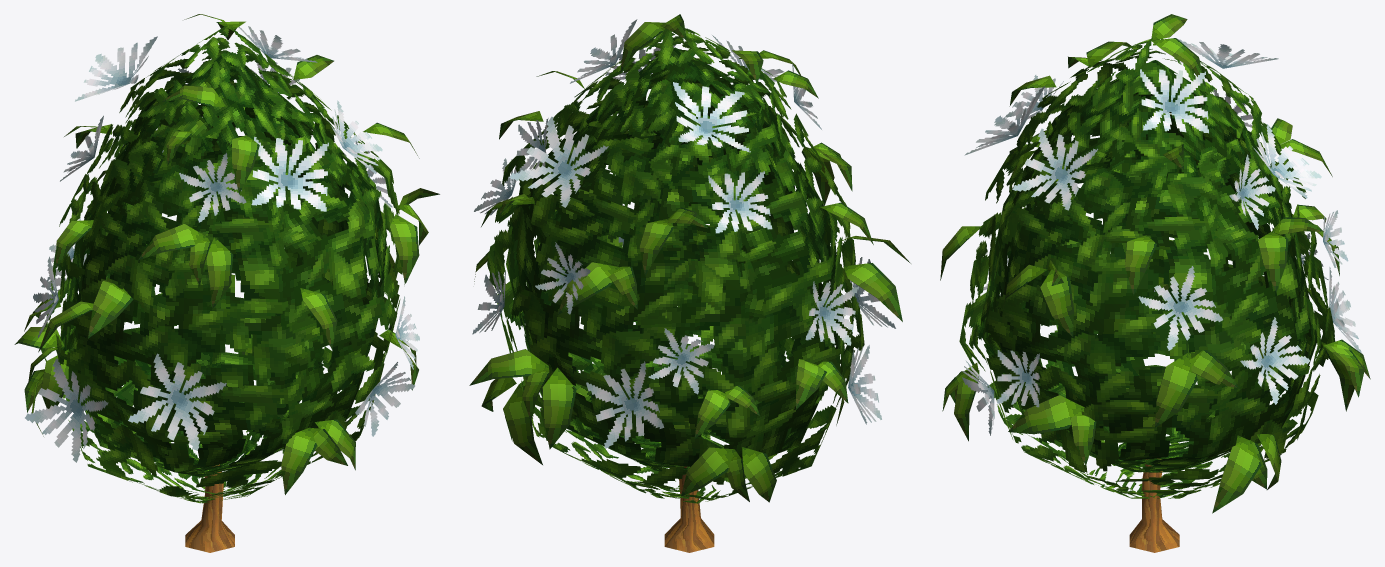
File: INST_HTOWN_SHRUB2.fbx
3 renders of one model, left to right at view 1: azimuth 30°, elevation 25°; view 2: azimuth 150°, elevation 25°; view 3: azimuth 270°, elevation 25°, orthographic.
Visible parts, largest first — view 1: INST_HTOWN_SHRUB2; view 2: INST_HTOWN_SHRUB2; view 3: INST_HTOWN_SHRUB2.
Part boxes in pixels (x1,y1,x2,y2): INST_HTOWN_SHRUB2: (14, 14, 439, 552); INST_HTOWN_SHRUB2: (469, 14, 910, 552); INST_HTOWN_SHRUB2: (940, 14, 1370, 552).
Size of the model in its own units: 8775 by 11181 by 8299.
Materials: 5 (5 with a texture image).
